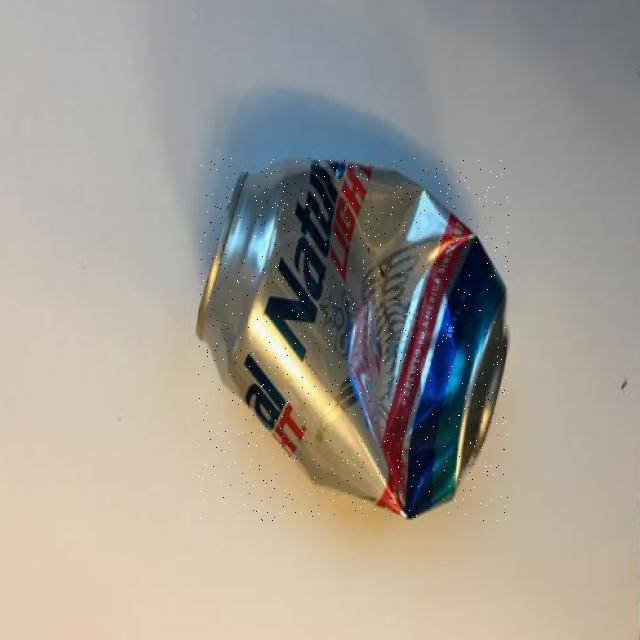metal: (198, 159, 509, 521)
